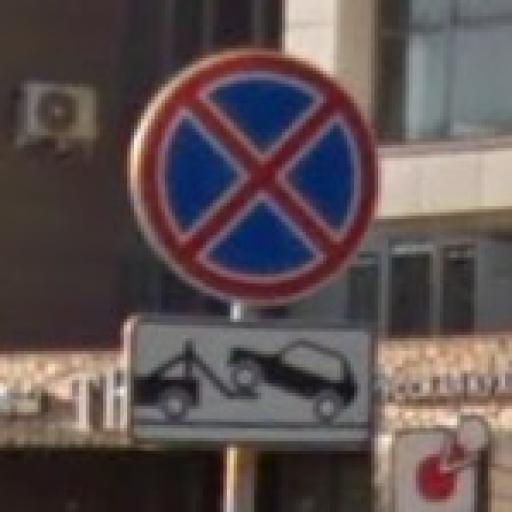traffic_sign: (128, 46, 386, 310)
